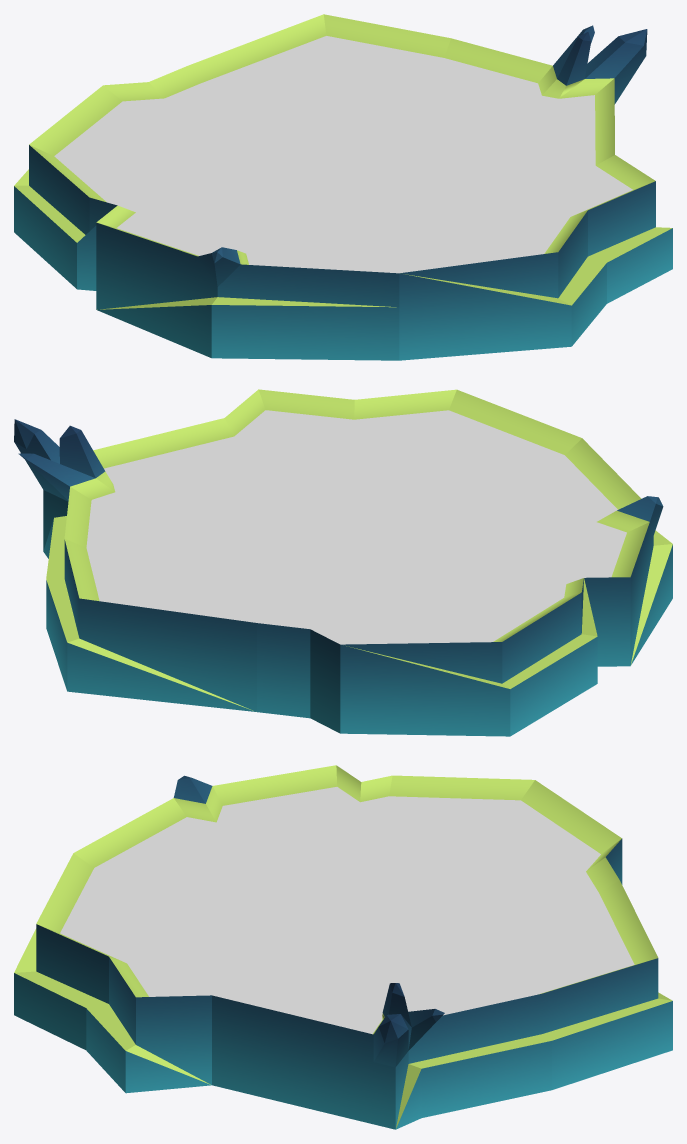
File: MOD_Platform_LaagV2.fbx
The picture shows the model from 3 angles, top to bottom: view 1: azimuth 30°, elevation 25°; view 2: azimuth 150°, elevation 25°; view 3: azimuth 270°, elevation 25°; orthographic projection. The views are drawn at different scales.
Parts seen in each view (by area): view 1: MOD_Platform_Laag; view 2: MOD_Platform_Laag; view 3: MOD_Platform_Laag.
Part boxes in pixels (x1,y1,x2,y2): MOD_Platform_Laag: (14, 14, 672, 360); MOD_Platform_Laag: (14, 389, 672, 736); MOD_Platform_Laag: (14, 765, 672, 1129).
Size of the model in its own units: 7.34 by 1.58 by 7.05.
Materials: 3 (1 with a texture image).
